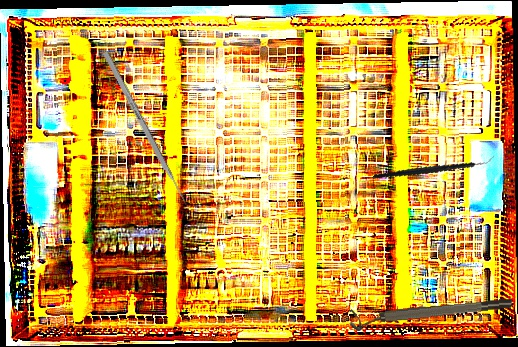Chopper: (372, 128, 495, 206)
Fixation Ring: (348, 295, 514, 332)
Pusher: (101, 50, 192, 211)
